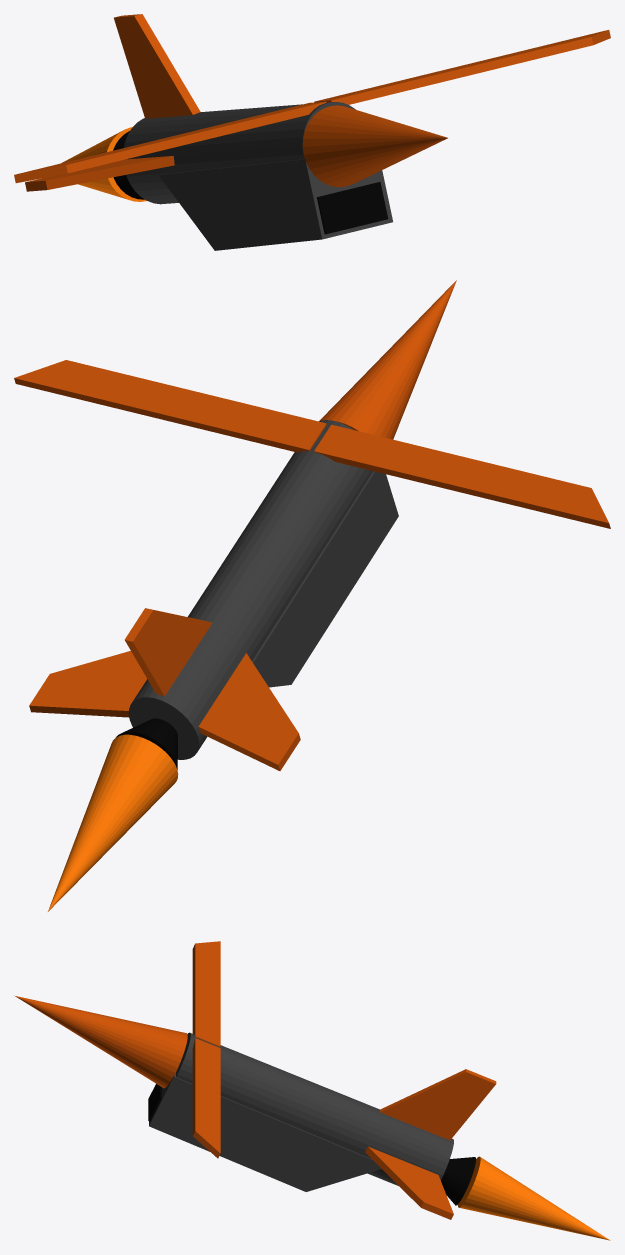
The model's file is vitek cruise missile.obj.
3 renders of one model, top to bottom at view 1: azimuth 30°, elevation 25°; view 2: azimuth 150°, elevation 25°; view 3: azimuth 270°, elevation 25°, orthographic. The views are drawn at different scales.
Parts seen in each view (by area): view 1: Cube, Cylinder, Cone, Cube.002, Cube.004, Cube.005, Cube.006, Cube.001, Cone.002, Cone.001; view 2: Cylinder, Cube, Cube.005, Cube.004, Cone.002, Cone, Cube.001, Cube.003, Cube.002, Cone.001; view 3: Cylinder, Cube, Cone, Cone.002, Cube.002, Cube.005, Cube.004, Cube.003, Cone.001.
Boxes of the visible parts, <box> form: Cube: <box>158,159,392,250</box>; Cylinder: <box>124,102,355,204</box>; Cone: <box>302,105,447,187</box>; Cube.002: <box>114,14,200,118</box>; Cube.004: <box>14,101,326,183</box>; Cube.005: <box>314,30,610,104</box>; Cube.006: <box>317,182,388,234</box>; Cube.001: <box>25,156,174,191</box>; Cone.002: <box>61,127,146,201</box>; Cone.001: <box>113,131,144,199</box>; Cylinder: <box>128,420,373,759</box>; Cube: <box>252,471,398,687</box>; Cube.005: <box>14,360,326,452</box>; Cube.004: <box>314,424,610,528</box>; Cone.002: <box>48,734,178,911</box>; Cone: <box>319,280,456,439</box>; Cube.001: <box>198,653,300,770</box>; Cube.003: <box>29,651,146,717</box>; Cube.002: <box>124,608,212,696</box>; Cone.001: <box>116,718,177,769</box>; Cylinder: <box>176,1032,453,1185</box>; Cube: <box>149,1073,381,1191</box>; Cone: <box>14,995,187,1088</box>; Cone.002: <box>457,1156,610,1240</box>; Cube.002: <box>380,1069,496,1140</box>; Cube.005: <box>192,1038,220,1158</box>; Cube.004: <box>192,941,220,1046</box>; Cube.003: <box>365,1146,453,1219</box>; Cone.001: <box>441,1157,475,1205</box>.
Bounding box in the file's own units: 16.97 × 9.11 × 20.15.
